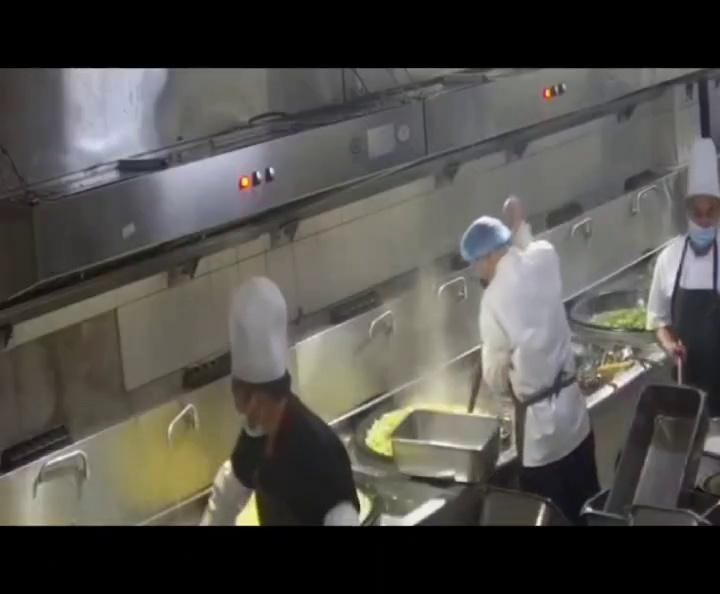mask: (686, 202, 720, 250)
